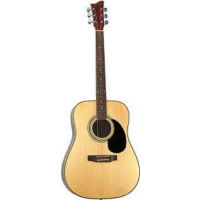guitar: (60, 1, 142, 199)
